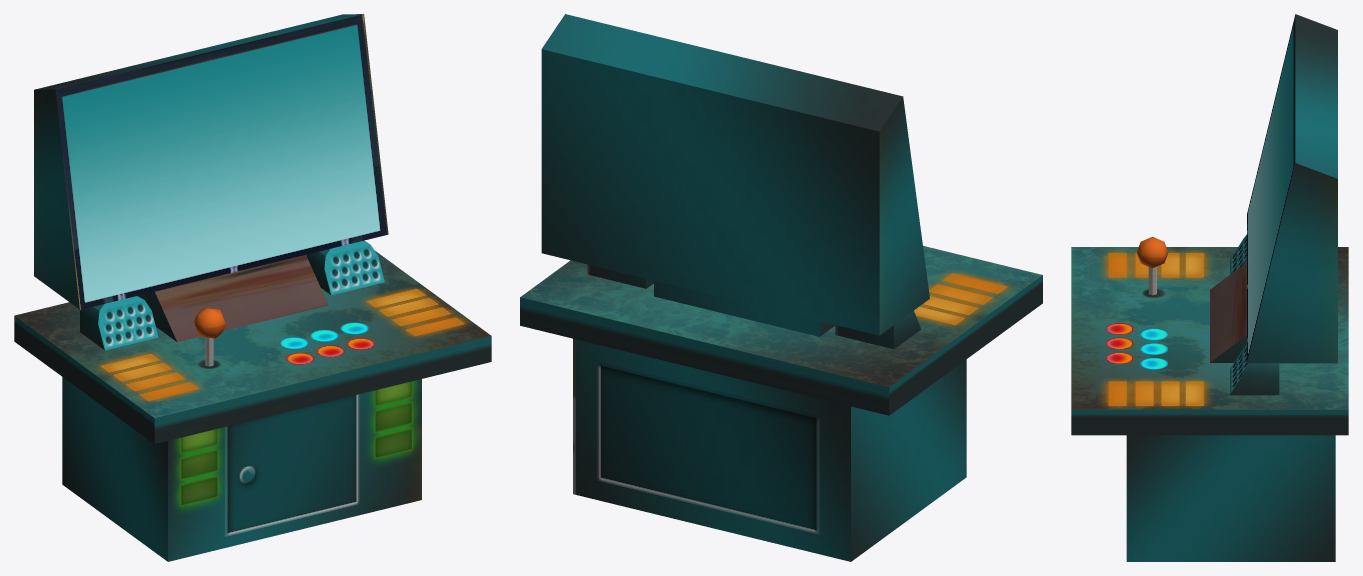
File: gameMachine5.fbx
The picture shows the model from 3 angles, left to right: view 1: azimuth 30°, elevation 25°; view 2: azimuth 150°, elevation 25°; view 3: azimuth 270°, elevation 25°; orthographic projection. The views are drawn at different scales.
Visible parts, largest first — view 1: gameMachine5; view 2: gameMachine5; view 3: gameMachine5.
Boxes of the visible parts, left/top/right/bottom form: gameMachine5: left=14, top=14, right=491, bottom=561; gameMachine5: left=520, top=14, right=1042, bottom=561; gameMachine5: left=1071, top=14, right=1348, bottom=561.
Size of the model in its own units: 11.26 by 13.3 by 8.1.
